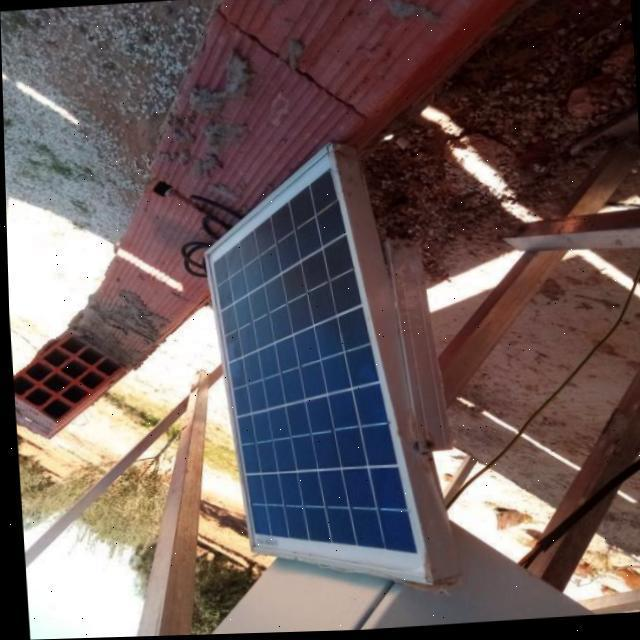Normal Solar Panel: (196, 144, 428, 596)
